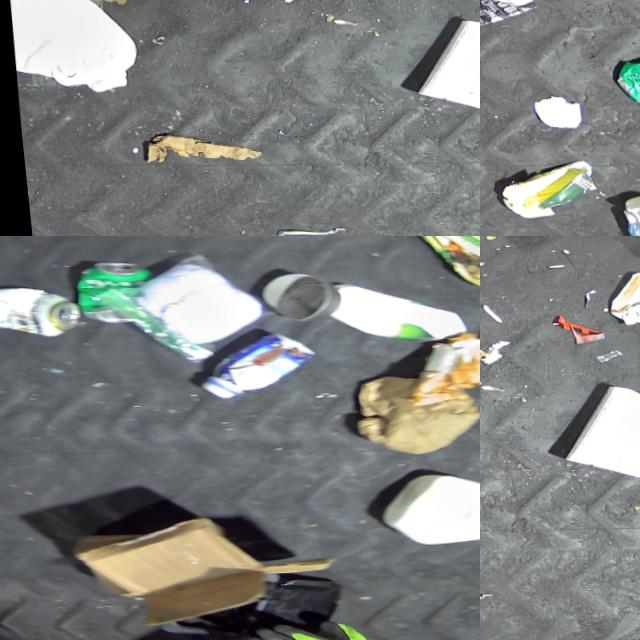can: (62, 260, 154, 326), (251, 273, 336, 325), (0, 283, 76, 339), (605, 59, 640, 108)
milk_jug: (0, 0, 134, 95), (318, 283, 462, 348)
non_white_jug: (602, 269, 640, 341)
